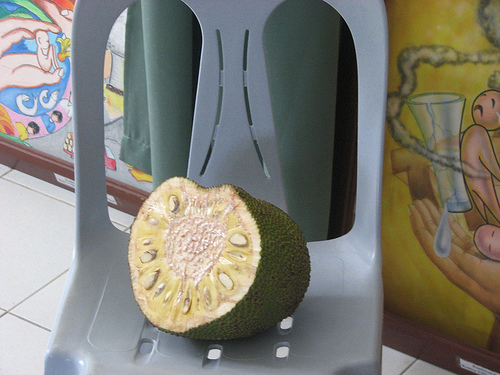jackfruit: (126, 177, 310, 341)
